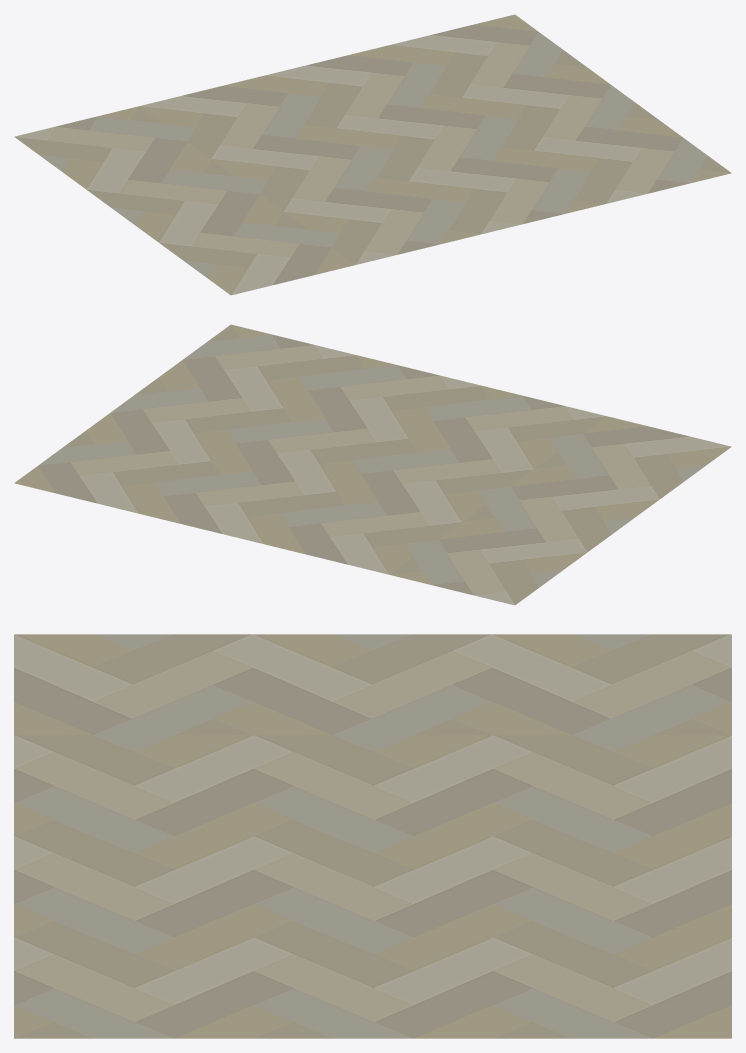
Rendered from Floor_3x4.fbx.
3 views of the same model, one above another, from view 1: azimuth 30°, elevation 25°; view 2: azimuth 150°, elevation 25°; view 3: azimuth 270°, elevation 25° (orthographic). The views are drawn at different scales.
Visible parts, largest first — view 1: pPlane8; view 2: pPlane8; view 3: pPlane8.
Part boxes in pixels (box(x1,y1,x2,y2)): pPlane8: box(14, 14, 731, 295); pPlane8: box(14, 324, 731, 605); pPlane8: box(14, 634, 731, 1038).
Size of the model in its own units: 4 by 6.28e-16 by 3.
Materials: 1 (1 with a texture image).
